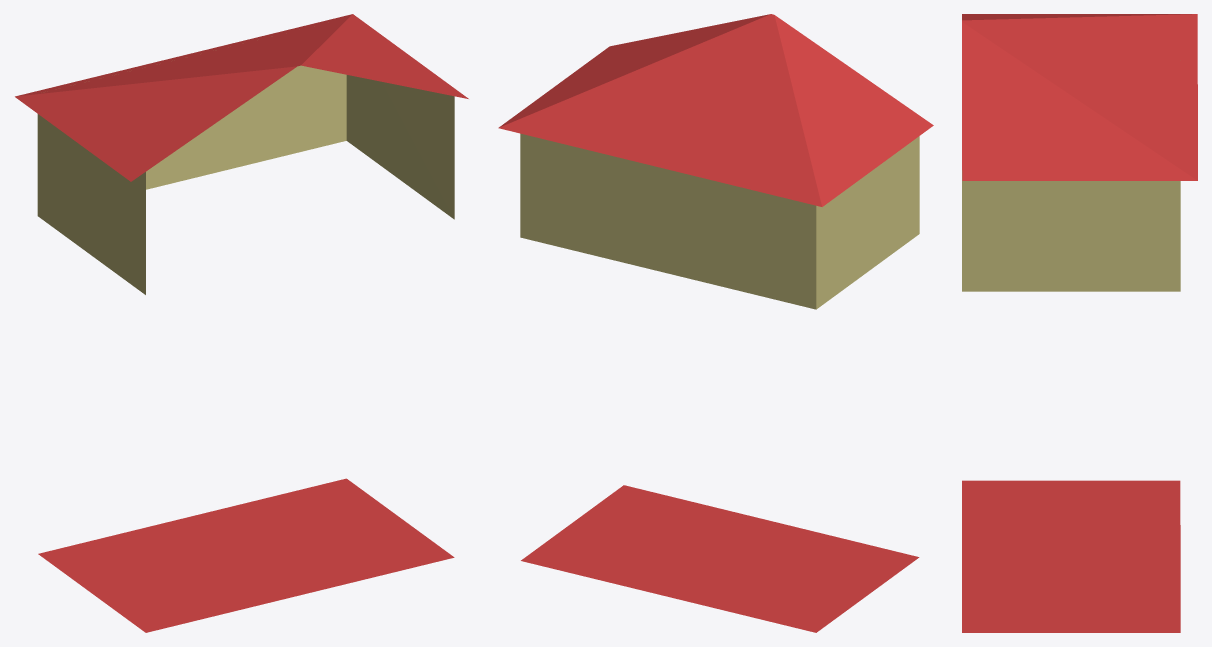
The picture shows the model from 3 angles, left to right: view 1: azimuth 30°, elevation 25°; view 2: azimuth 150°, elevation 25°; view 3: azimuth 270°, elevation 25°; orthographic projection. The views are drawn at different scales.
Bounding box in the file's own units: 5.7 × 3.4 × 8.51.
